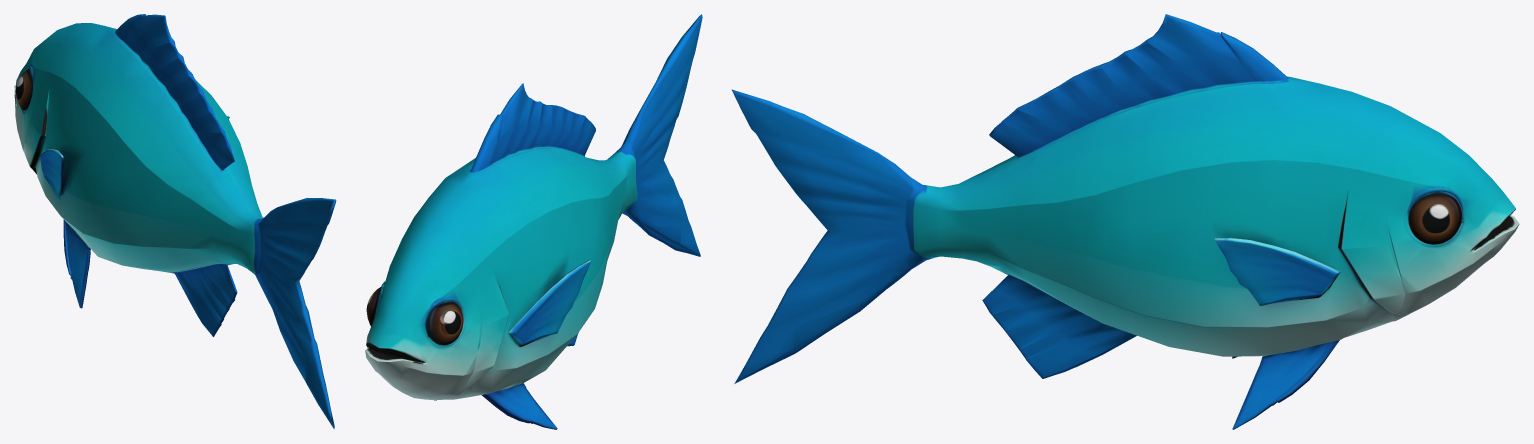
The model's file is fish_blue.glb.
3 renders of one model, left to right at view 1: azimuth 30°, elevation 25°; view 2: azimuth 150°, elevation 25°; view 3: azimuth 270°, elevation 25°, orthographic. The views are drawn at different scales.
Visible parts, largest first — view 1: f5623f62_a761_425a_9e9f_4ab5a949fd93; view 2: f5623f62_a761_425a_9e9f_4ab5a949fd93; view 3: f5623f62_a761_425a_9e9f_4ab5a949fd93.
Boxes of the visible parts, x1,y1,x2,y2 form: f5623f62_a761_425a_9e9f_4ab5a949fd93: [14, 14, 336, 429]; f5623f62_a761_425a_9e9f_4ab5a949fd93: [365, 14, 702, 429]; f5623f62_a761_425a_9e9f_4ab5a949fd93: [731, 14, 1519, 429].
Bounding box in the file's own units: 0.1099 × 0.1861 × 0.3498.
Materials: 1 (1 with a texture image).
